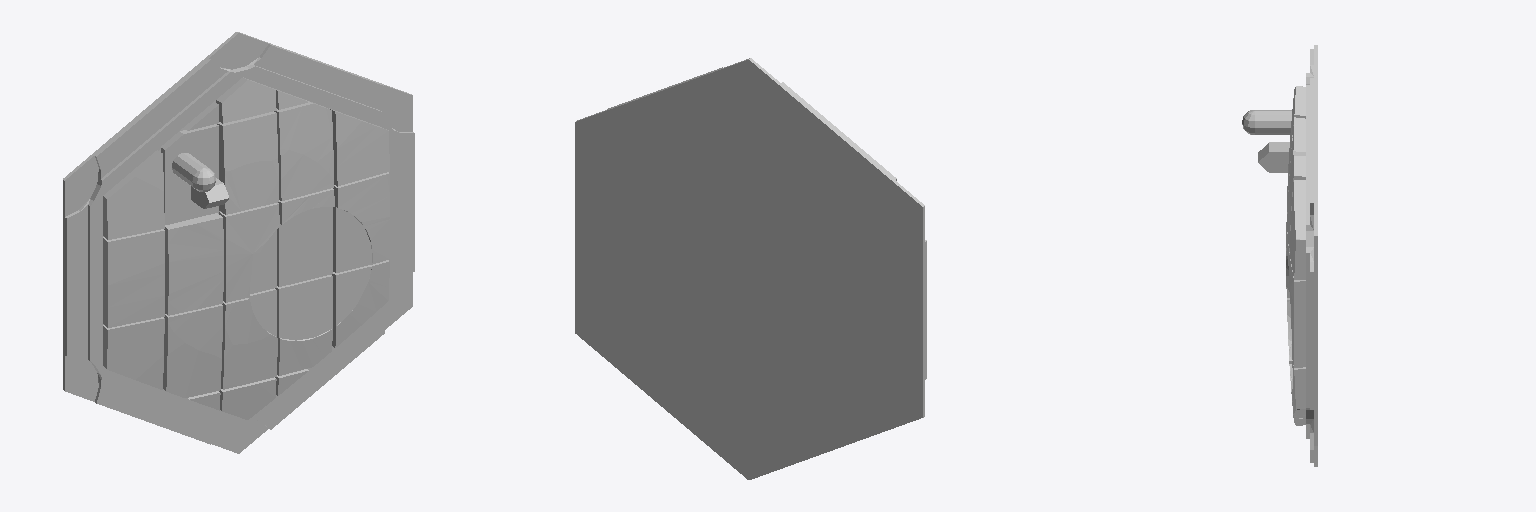
Rendered from Wheat1_Ver2_Rev1.obj.
3 renders of one model, left to right at view 1: azimuth 30°, elevation 25°; view 2: azimuth 150°, elevation 25°; view 3: azimuth 270°, elevation 25°, orthographic.
Parts seen in each view (by area): view 1: <STL_BINARY>; view 2: <STL_BINARY>; view 3: <STL_BINARY>.
Part boxes in pixels (x1,y1,x2,y2): <STL_BINARY>: (63,32,414,453); <STL_BINARY>: (575,58,926,479); <STL_BINARY>: (1242,45,1317,466).
Bounding box in the file's own units: 79.08 × 91.31 × 15.08.